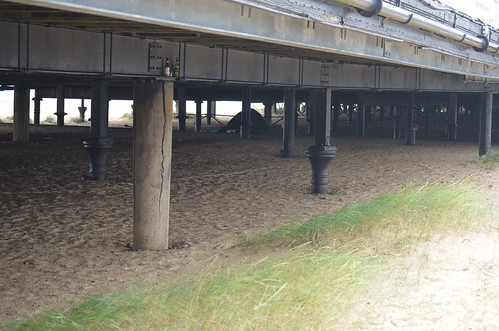collumn: (127, 78, 183, 252), (77, 76, 118, 183), (305, 90, 342, 196), (8, 81, 35, 144), (470, 93, 494, 158)
grass: (144, 192, 498, 331)
